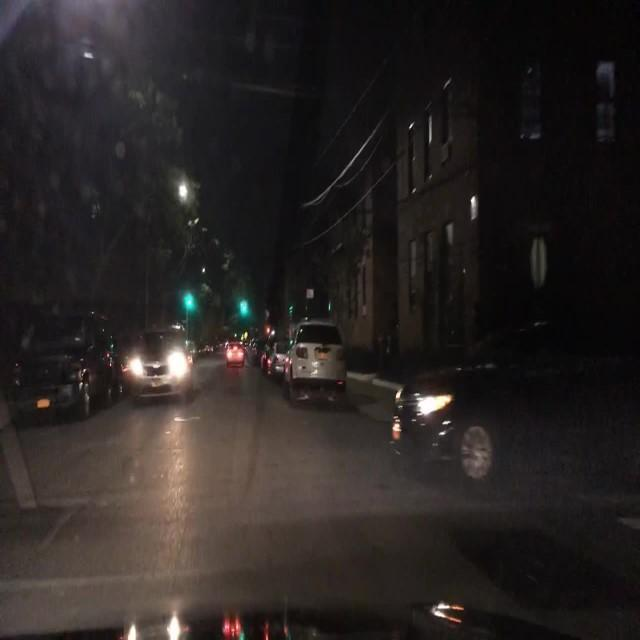normal: (0, 305, 121, 422), (119, 328, 197, 403), (283, 319, 347, 405), (267, 340, 293, 379), (223, 341, 245, 366)
